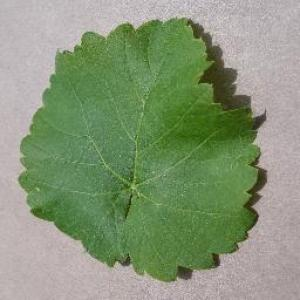Folha: (16, 15, 266, 281)
